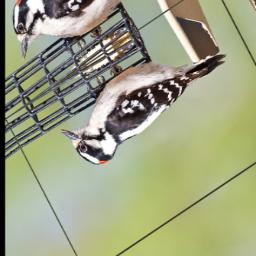Woodpecker: (48, 6, 240, 180)
